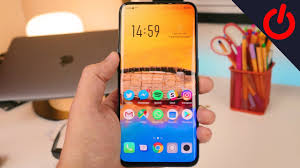oppo: (115, 1, 200, 168)
